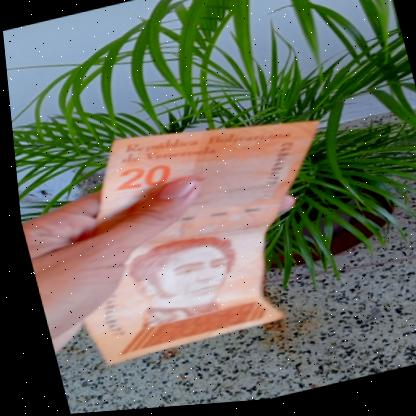twenty-front-vef: (33, 95, 362, 372)
